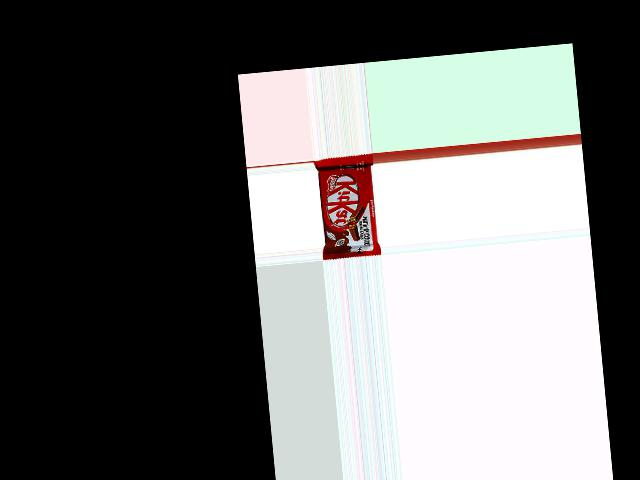chocolate: (313, 154, 382, 261)
